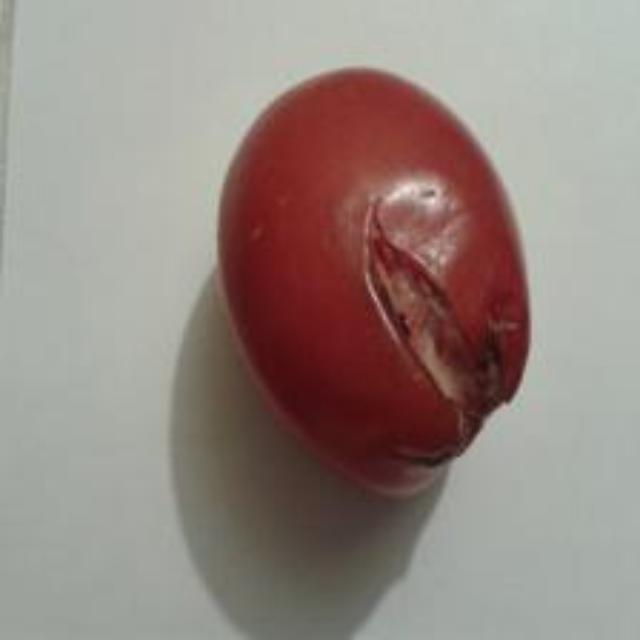defect: (214, 58, 537, 504)
